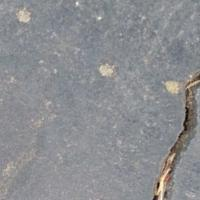crack: (146, 63, 199, 199)
